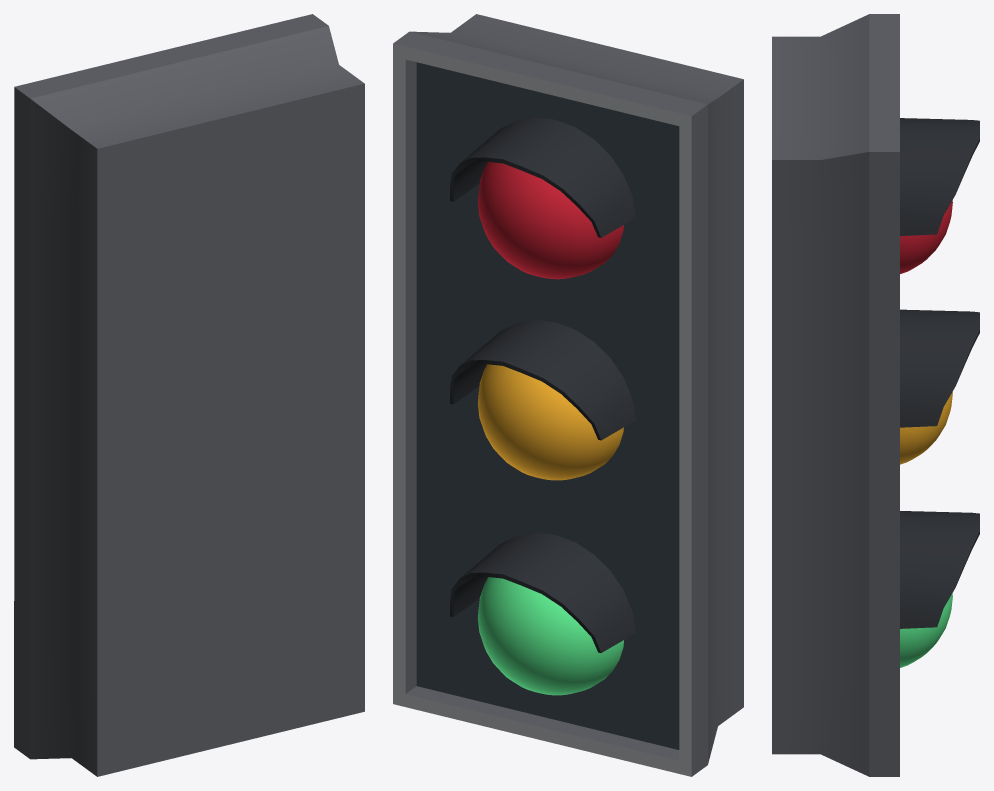
File: LightsSign.fbx
3 views of the same model, side by side, from view 1: azimuth 30°, elevation 25°; view 2: azimuth 150°, elevation 25°; view 3: azimuth 270°, elevation 25° (orthographic). The views are drawn at different scales.
Visible parts, largest first — view 1: Sign; view 2: Sign, GreenLight, RedLight, YellowLight, TLbloker, BLbloker, MLbloker; view 3: Sign, TLbloker, BLbloker, MLbloker, GreenLight, RedLight, YellowLight.
Part boxes in pixels (bbox=[...]): Sign: bbox=[14, 14, 364, 776]; Sign: bbox=[393, 14, 743, 776]; GreenLight: bbox=[477, 577, 623, 695]; RedLight: bbox=[478, 162, 623, 279]; YellowLight: bbox=[477, 364, 623, 480]; TLbloker: bbox=[450, 117, 636, 237]; BLbloker: bbox=[450, 532, 636, 652]; MLbloker: bbox=[450, 320, 636, 440]; Sign: bbox=[772, 14, 899, 776]; TLbloker: bbox=[900, 118, 979, 235]; BLbloker: bbox=[900, 511, 979, 628]; MLbloker: bbox=[900, 309, 979, 427]; GreenLight: bbox=[900, 593, 952, 667]; RedLight: bbox=[900, 200, 952, 273]; YellowLight: bbox=[900, 392, 952, 464].
Size of the model in its own units: 13.18 by 27.88 by 8.4.
